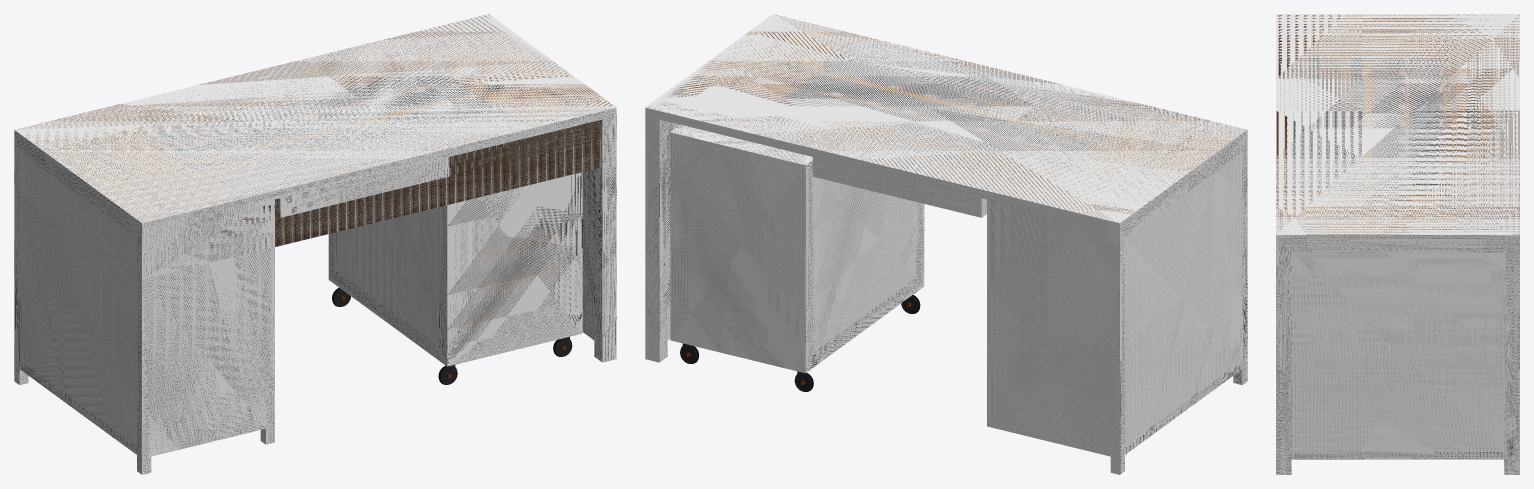
The picture shows the model from 3 angles, left to right: view 1: azimuth 30°, elevation 25°; view 2: azimuth 150°, elevation 25°; view 3: azimuth 270°, elevation 25°; orthographic projection. The views are drawn at different scales.
Visible parts, largest first — view 1: mesh27_mesh27-geometry, mesh28_mesh28-geometry, mesh3_mesh3-geometry; view 2: mesh27_mesh27-geometry, mesh28_mesh28-geometry, mesh3_mesh3-geometry; view 3: mesh27_mesh27-geometry.
Boxes of the visible parts, left/top/right/bottom form: mesh27_mesh27-geometry: left=14, top=14, right=616, bottom=474; mesh28_mesh28-geometry: left=328, top=172, right=582, bottom=366; mesh3_mesh3-geometry: left=332, top=287, right=572, bottom=384; mesh27_mesh27-geometry: left=645, top=14, right=1247, bottom=474; mesh28_mesh28-geometry: left=670, top=125, right=924, bottom=373; mesh3_mesh3-geometry: left=680, top=295, right=920, bottom=391; mesh27_mesh27-geometry: left=1276, top=14, right=1519, bottom=474.
Size of the model in its own units: 0.8235 by 0.4173 by 0.3843.
